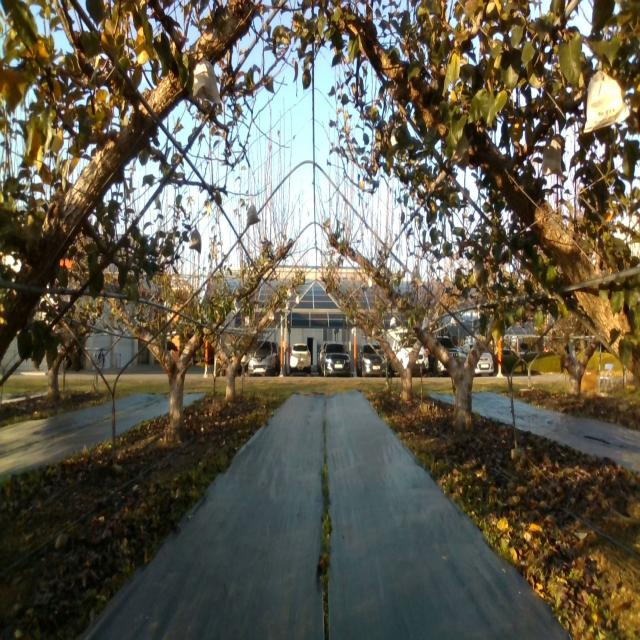pearbags: (584, 68, 630, 134), (193, 60, 221, 105), (542, 138, 563, 177), (190, 228, 202, 252), (247, 204, 260, 225), (411, 265, 422, 285)
